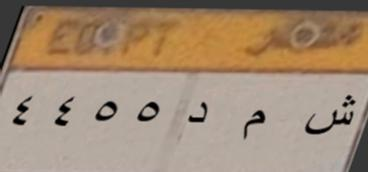4: (54, 94, 76, 130)
5: (132, 94, 166, 130), (88, 94, 121, 128)
daal: (184, 97, 211, 134)
meem: (239, 106, 268, 146)
sheen: (300, 88, 358, 142)
